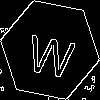W: (25, 25, 78, 80)
